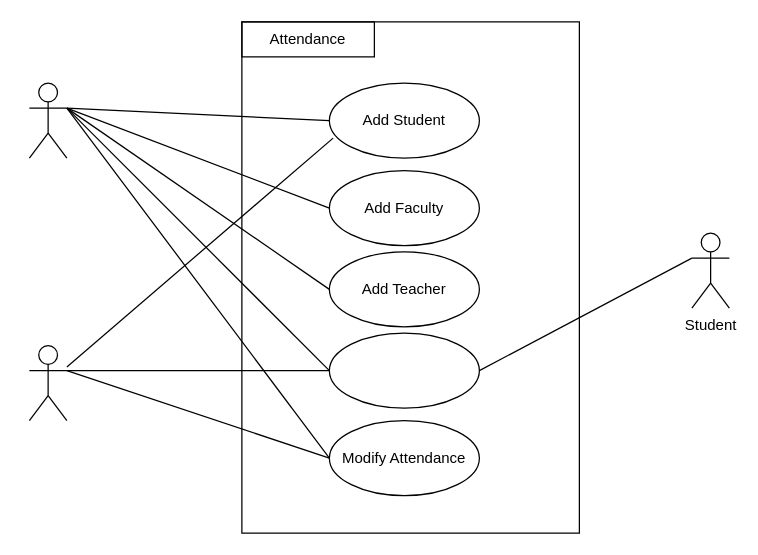
Image size: 758x555. Some labels were removed from this diagram. Here are the shapes that lost their labels. From the top down, the centre of each, then its label:
At pixel 47 120: "Admin".
At pixel 47 382: "Teacher".
At pixel 403 370: "Take Attendance".
